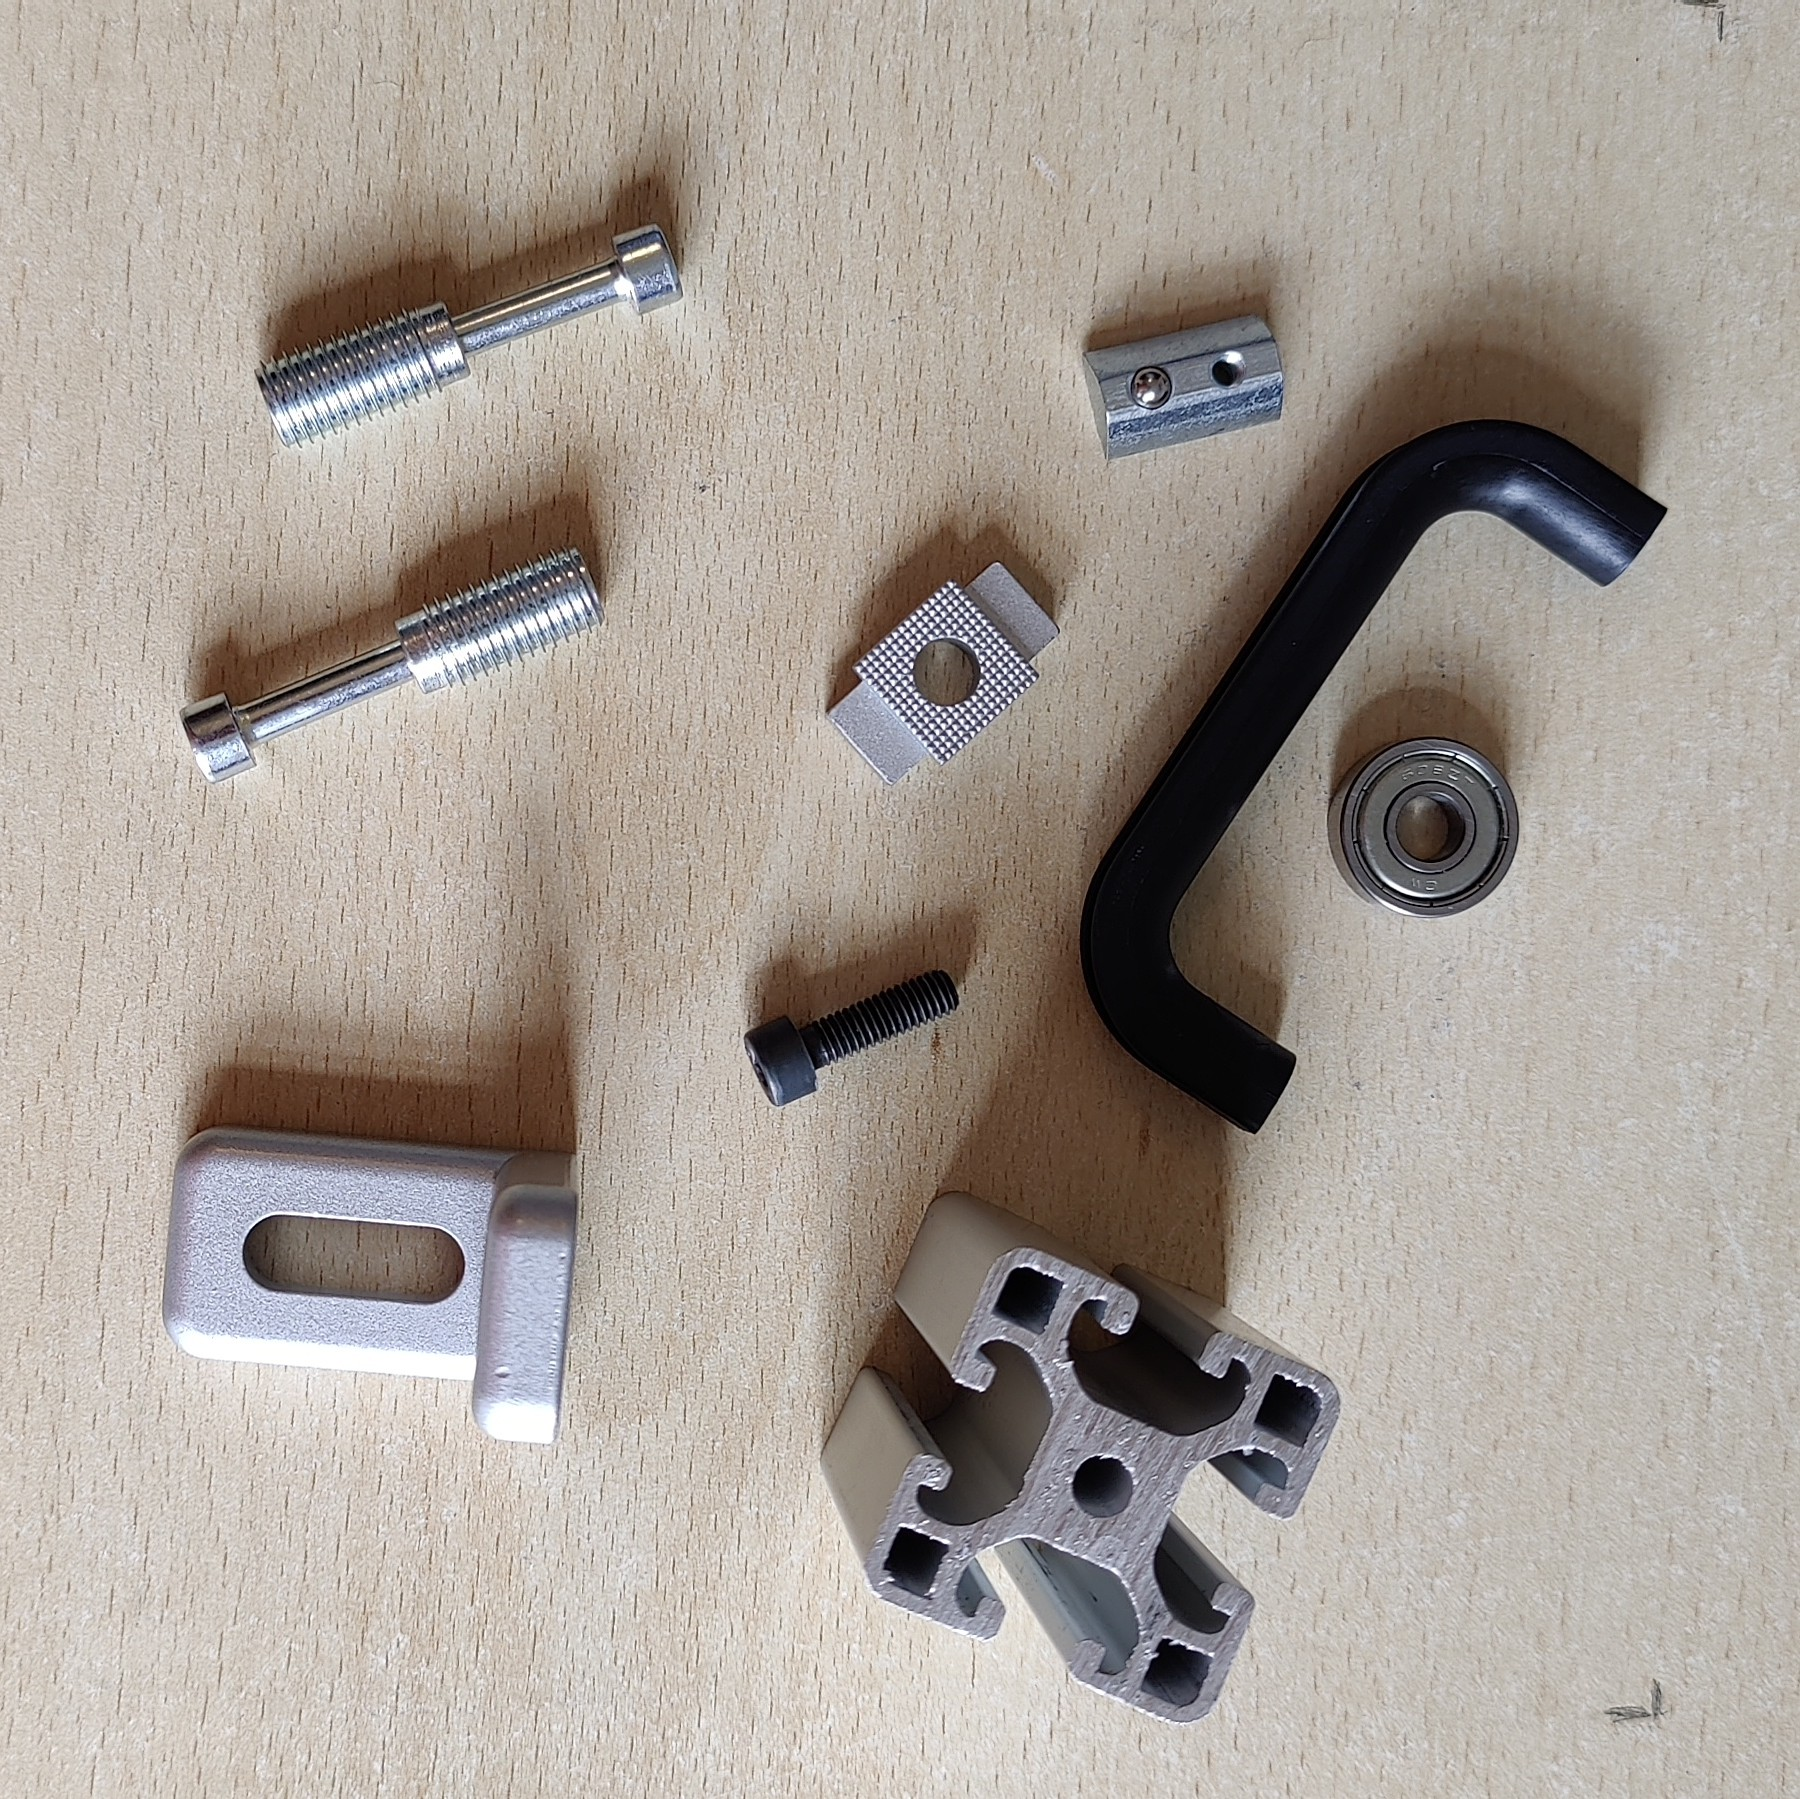Aluminium Extension: (815, 1191, 1342, 1730)
Ball Bearing: (1324, 735, 1523, 921)
Multiwinkel: (161, 1122, 585, 1450)
Pull Handle: (1079, 414, 1673, 1138)
Shoulder Socket Head Cap Screw: (175, 540, 613, 784), (252, 221, 687, 448)
Socket Head Cap Screw: (739, 965, 962, 1110)
T Nut Square: (822, 557, 1062, 791)
T Spring Nut: (1080, 313, 1289, 465)
